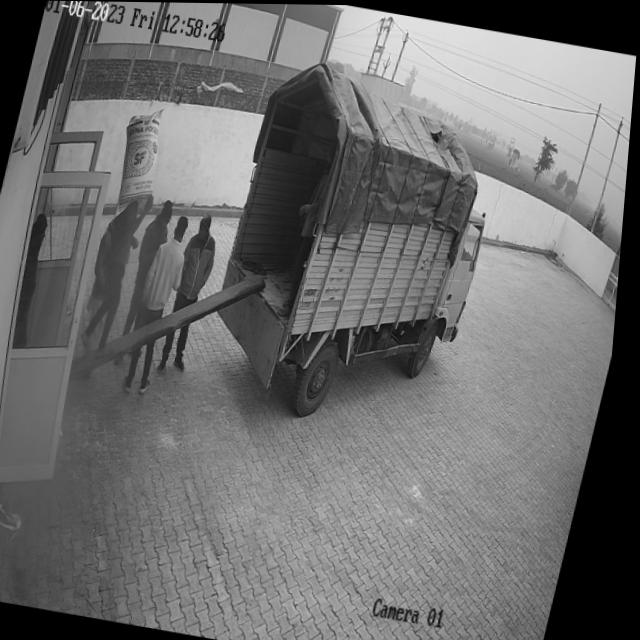sack: (108, 103, 173, 221)
